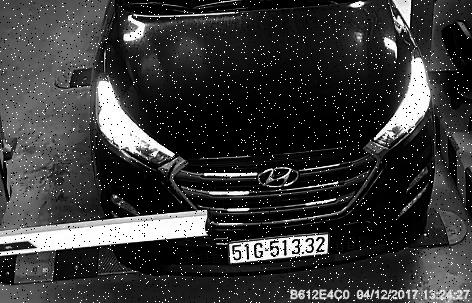License-plate: (219, 231, 338, 268)
